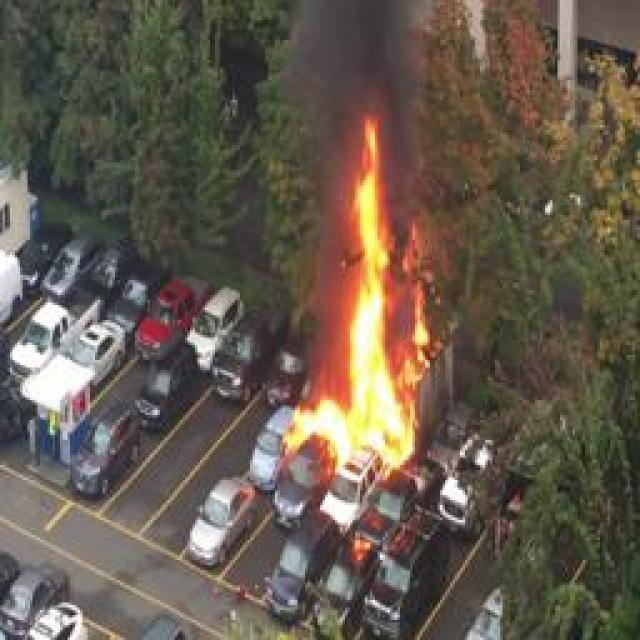Fire: (359, 124, 434, 436), (295, 385, 419, 448)
Smoke: (306, 5, 468, 387)
